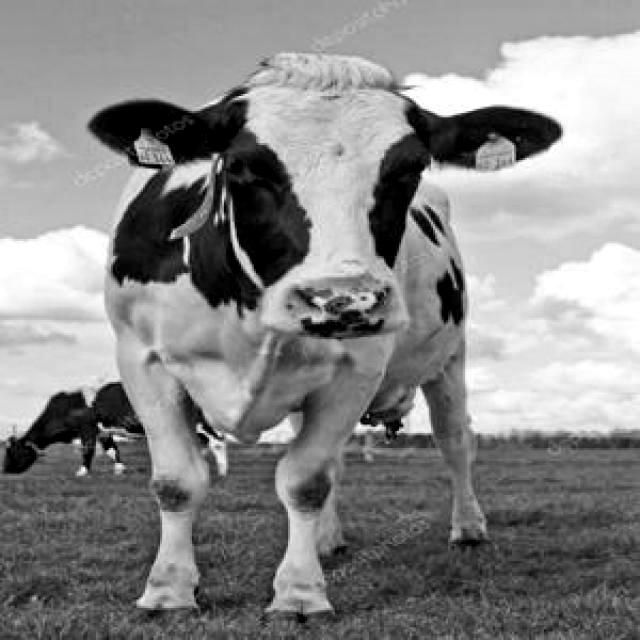COW: (90, 55, 560, 619)
